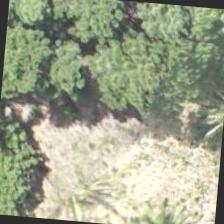Kelapa_Sawit: (40, 137, 138, 223)
